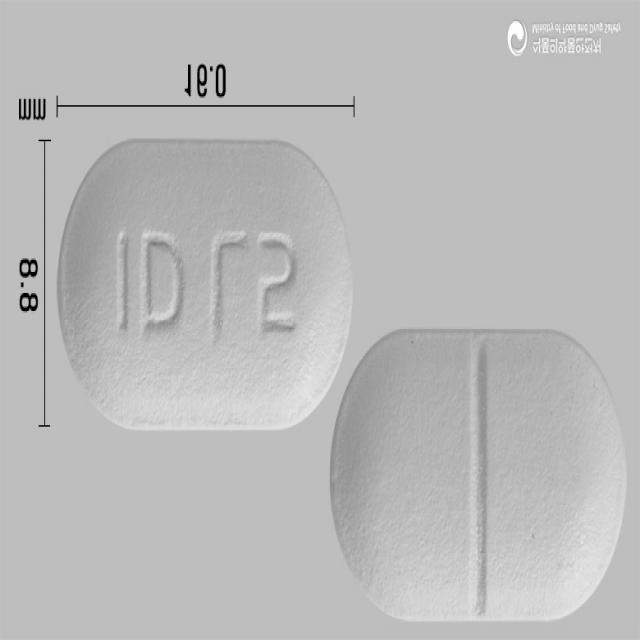Clabio: (330, 329, 628, 623), (58, 140, 354, 433)
